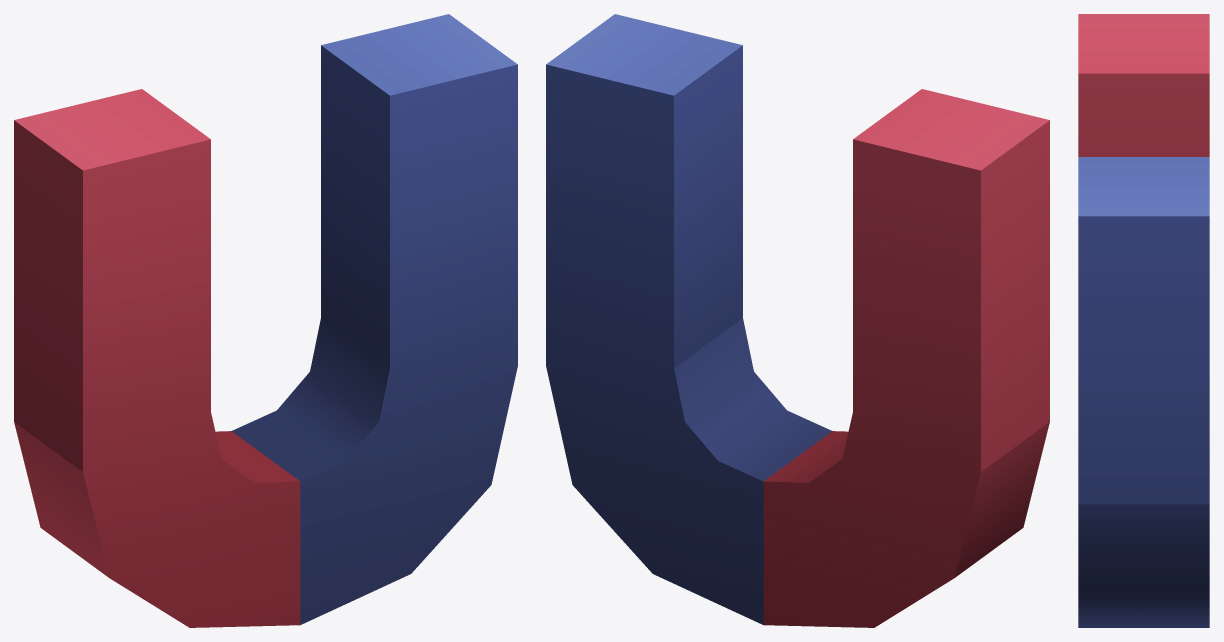
The model's file is _magnet.fbx.
3 renders of one model, left to right at view 1: azimuth 30°, elevation 25°; view 2: azimuth 150°, elevation 25°; view 3: azimuth 270°, elevation 25°, orthographic. The views are drawn at different scales.
Visible parts, largest first — view 1: magnet; view 2: magnet; view 3: magnet.
Boxes of the visible parts, bbox=[...] form: magnet: bbox=[14, 14, 517, 627]; magnet: bbox=[546, 14, 1049, 627]; magnet: bbox=[1078, 14, 1209, 627].
Size of the model in its own units: 0.6166 by 0.6877 by 0.1693.
